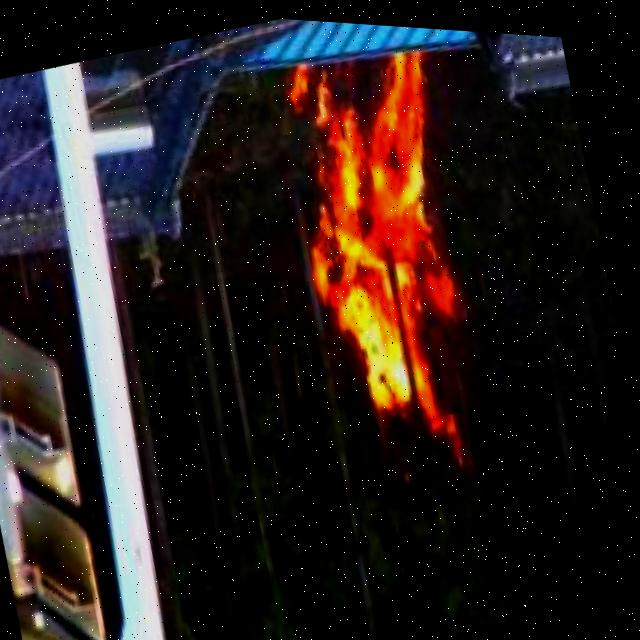Fire: (237, 22, 538, 475)
